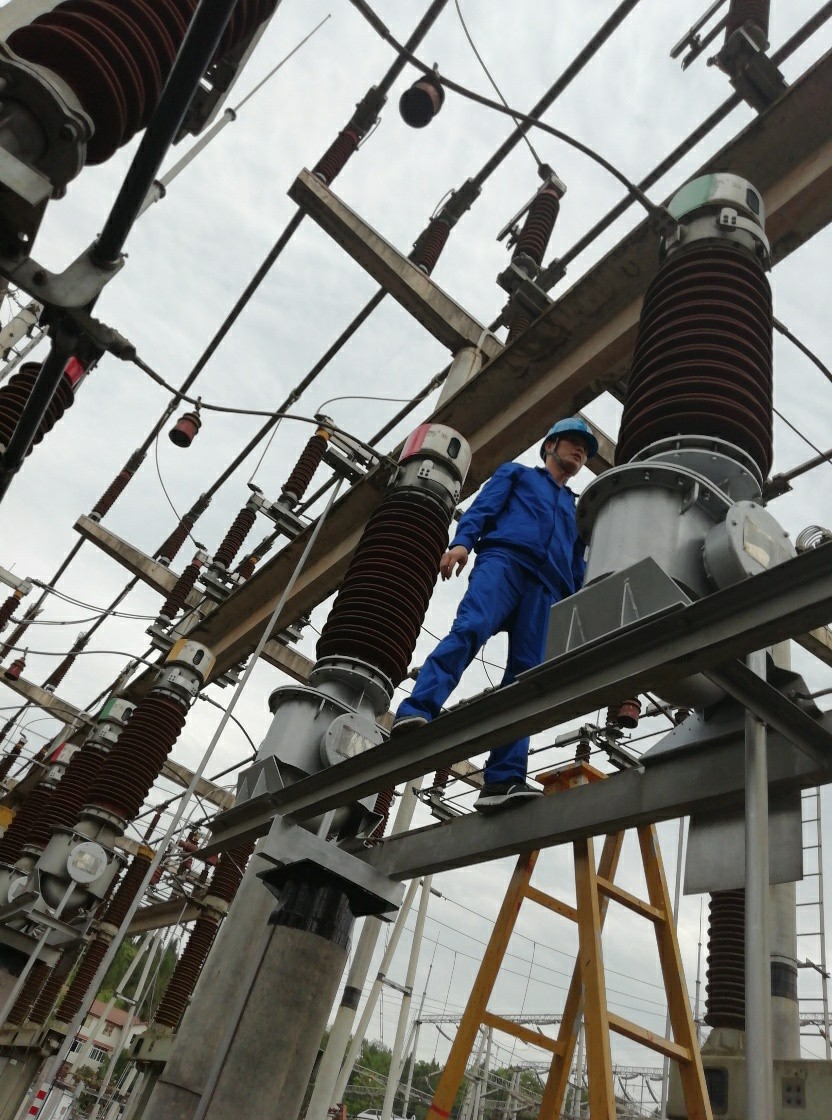hat: (535, 407, 610, 490)
